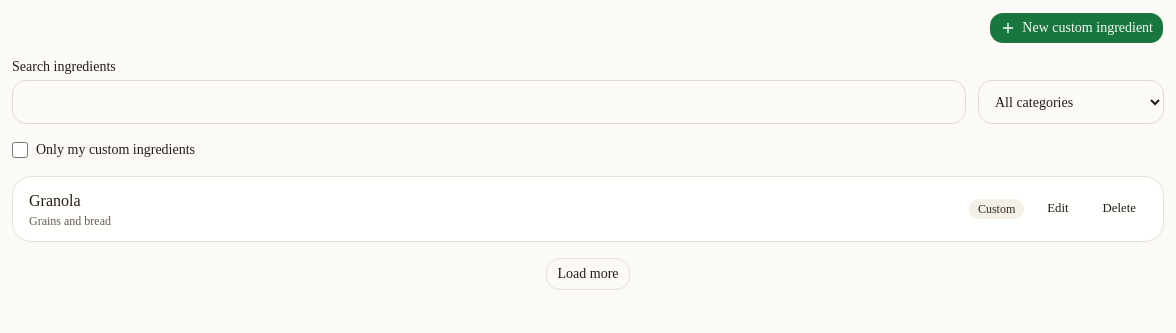
Scenario: CustomIngredientsPage listing › asks for the next page with the API's cursor
Click the button "Load more" at (588, 274), box x1=546 y1=258 x2=630 y2=290
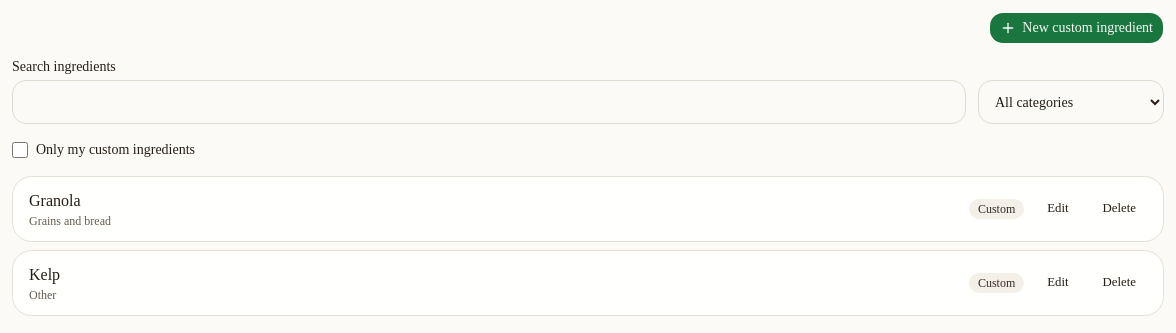
Now the text "Kelp" is shown, box x1=29 y1=266 x2=60 y2=283
